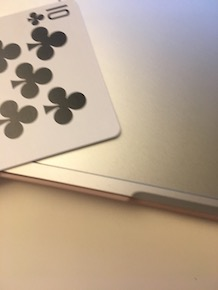TenOfClubs: (1, 1, 124, 176)
